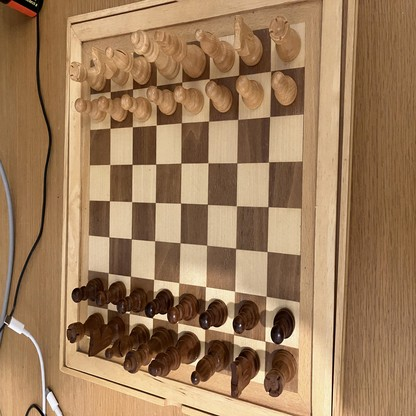bishop_black: (192, 341, 228, 383), (105, 326, 149, 360)
bishop_white: (196, 28, 235, 72), (106, 47, 152, 84)
king_black: (148, 335, 199, 375)
king_white: (154, 31, 207, 75)
knight_black: (88, 319, 124, 358), (231, 349, 259, 398)
knight_white: (232, 15, 263, 65), (91, 47, 127, 85)
pawn_black: (168, 293, 197, 323), (271, 309, 295, 344), (96, 281, 126, 308), (145, 289, 173, 317), (233, 301, 258, 332), (200, 301, 228, 328), (117, 290, 147, 313), (72, 280, 102, 302)
pawn_white: (236, 75, 264, 108), (148, 86, 177, 115), (206, 80, 232, 112), (175, 85, 204, 113), (272, 72, 297, 104), (122, 96, 151, 121), (75, 98, 106, 120), (98, 97, 126, 121)
queen_black: (124, 328, 170, 373)
queen_white: (132, 29, 180, 78)
rock_black: (264, 351, 297, 398), (67, 315, 104, 345)
rock_white: (269, 17, 301, 61), (70, 61, 105, 90)
